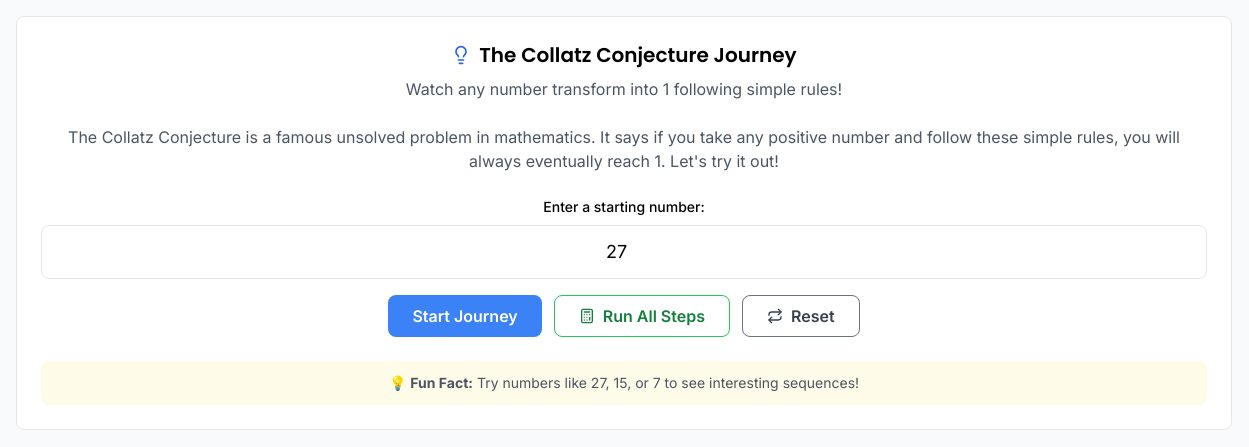
it: CollatzVisualizer › disables buttons when input is invalid
Replace the text in the number field showing "27" with "0". click: [624, 252]
box: [41,225,1207,279]
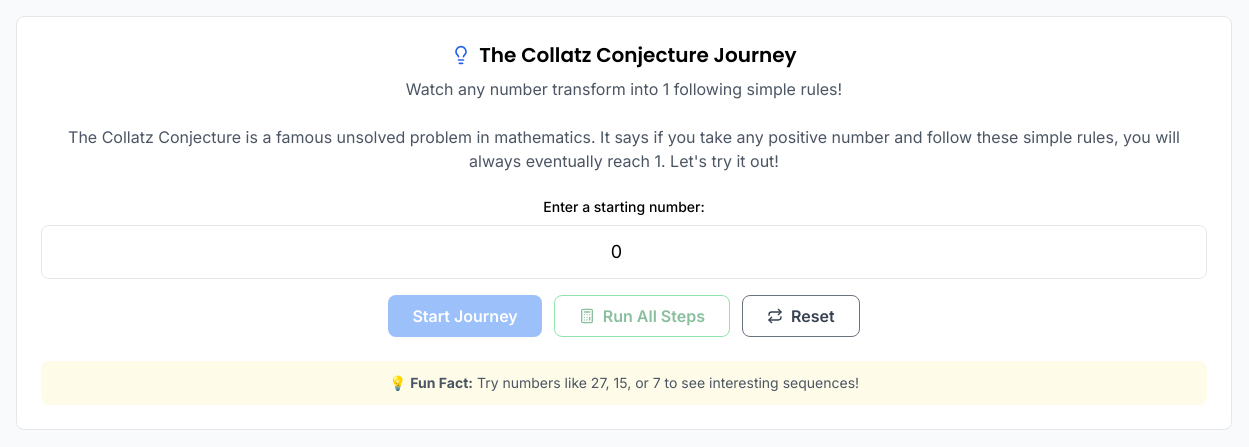
Expected: the button "Start Journey" is disabled, [388,295,542,337]
